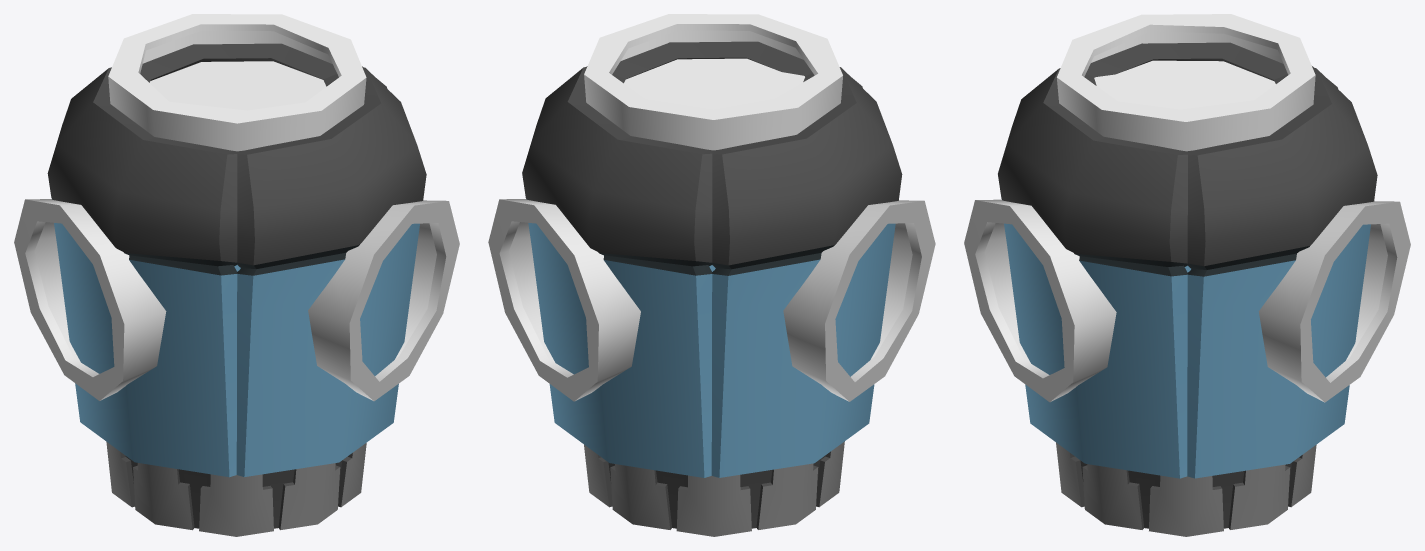
The model's file is PowerupCrate_V2.fbx.
3 views of the same model, side by side, from view 1: azimuth 30°, elevation 25°; view 2: azimuth 150°, elevation 25°; view 3: azimuth 270°, elevation 25° (orthographic).
Visible parts, largest first — view 1: powerUpCrate2_V2, powerUpCrate3_V2, powerUpCrate5_V2, PowerupCrate_V2, powerUpCrate4_V2; view 2: powerUpCrate4_V2, powerUpCrate2_V2, powerUpCrate5_V2, PowerupCrate_V2, powerUpCrate3_V2; view 3: powerUpCrate3_V2, powerUpCrate4_V2, powerUpCrate5_V2, PowerupCrate_V2, powerUpCrate2_V2.
Boxes of the visible parts, <box> form: powerUpCrate2_V2: <box>14,67,237,477</box>; powerUpCrate3_V2: <box>236,67,459,476</box>; powerUpCrate5_V2: <box>108,14,366,151</box>; PowerupCrate_V2: <box>106,442,366,536</box>; powerUpCrate4_V2: <box>140,43,387,271</box>; powerUpCrate4_V2: <box>488,66,712,477</box>; powerUpCrate2_V2: <box>711,67,935,477</box>; powerUpCrate5_V2: <box>584,14,842,150</box>; PowerupCrate_V2: <box>584,441,844,536</box>; powerUpCrate3_V2: <box>587,41,862,271</box>; powerUpCrate3_V2: <box>964,68,1187,478</box>; powerUpCrate4_V2: <box>1187,67,1410,478</box>; powerUpCrate5_V2: <box>1056,14,1315,151</box>; PowerupCrate_V2: <box>1056,442,1316,536</box>; powerUpCrate2_V2: <box>1086,42,1337,272</box>.
Size of the model in its own units: 1.35 by 1.56 by 1.51.
